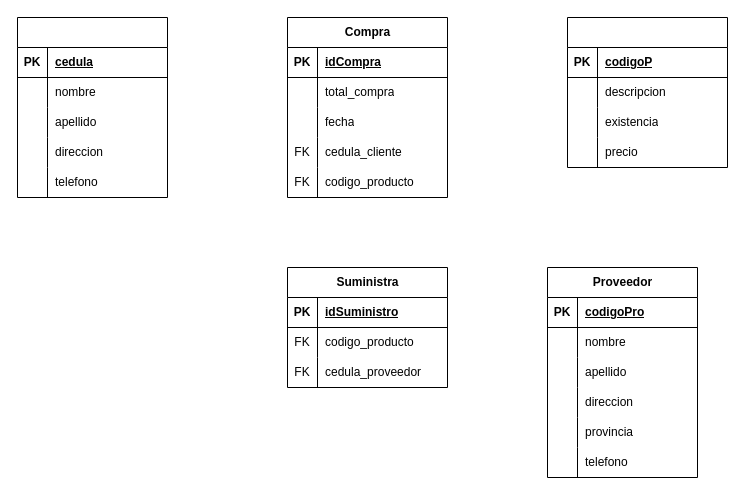
Some shapes in this 745 by 495 pixel diagram are drawn without their labels. The box of each missing label's shape, as (x1, y1, x2, y2) in pixels:
Cliente: (16, 16, 168, 198)
Producto: (566, 16, 728, 168)
